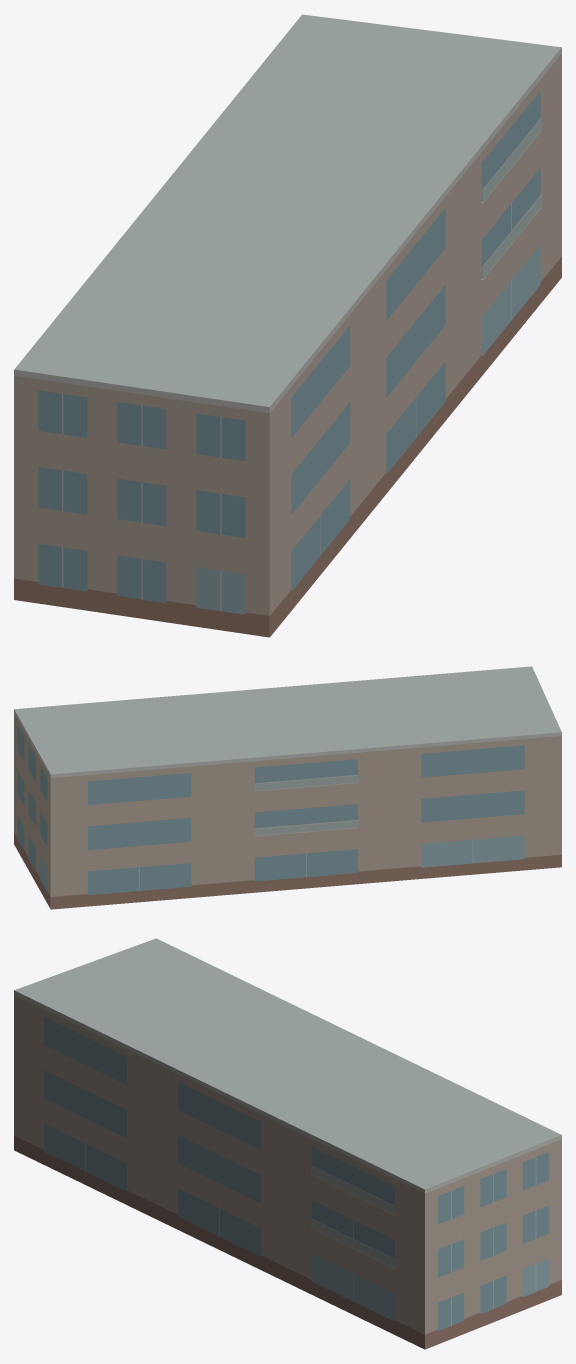
File: survey-upis-32966314.glb
The picture shows the model from 3 angles, top to bottom: view 1: azimuth 30°, elevation 25°; view 2: azimuth 150°, elevation 25°; view 3: azimuth 270°, elevation 25°; orthographic projection. The views are drawn at different scales.
Visible parts, largest first — view 1: survey-upis-32966314.tmp; view 2: survey-upis-32966314.tmp; view 3: survey-upis-32966314.tmp.
Part boxes in pixels (bbox=[...]): survey-upis-32966314.tmp: bbox=[14, 14, 561, 637]; survey-upis-32966314.tmp: bbox=[14, 666, 561, 909]; survey-upis-32966314.tmp: bbox=[14, 938, 561, 1349].
Size of the model in its own units: 30.81 by 9.15 by 28.4.
